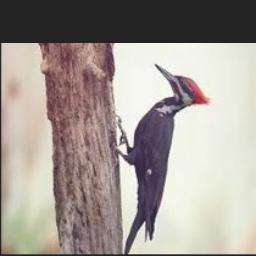Woodpecker: (115, 63, 210, 254)
